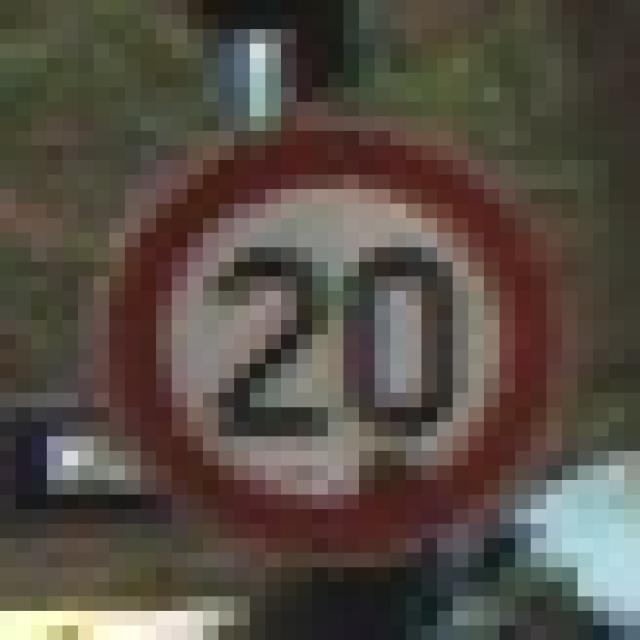Speed Limit -20-: (78, 87, 546, 553)
